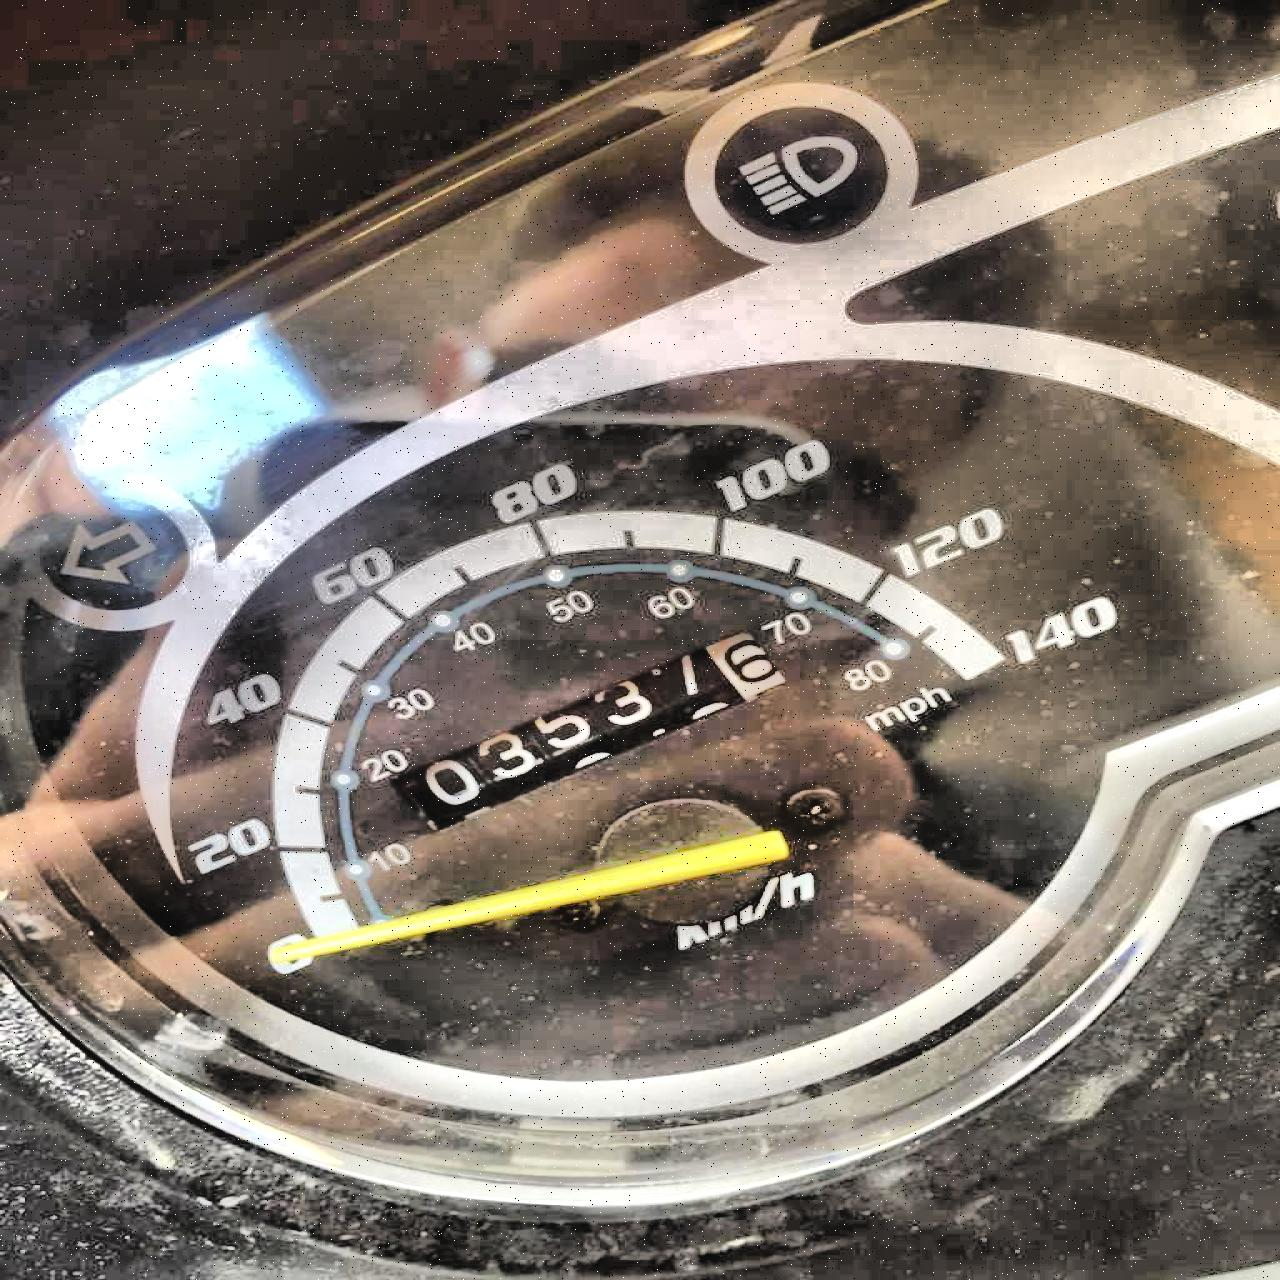0: (420, 757, 481, 806), (467, 621, 496, 644), (379, 749, 407, 771), (407, 688, 431, 710)
3: (592, 679, 652, 726), (475, 731, 535, 778), (386, 695, 411, 719)
4: (450, 629, 474, 651)
5: (533, 702, 588, 748)
6: (722, 638, 778, 682)
7: (649, 652, 699, 696), (758, 618, 783, 644)
odometer: (382, 628, 788, 837)
